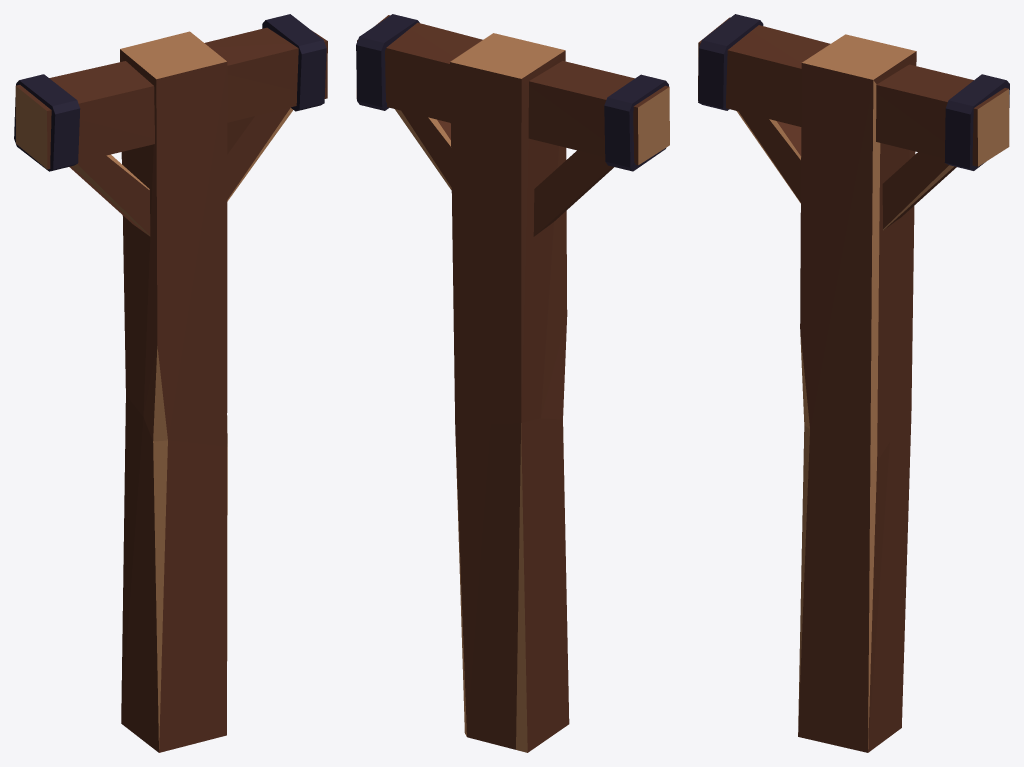
The model's file is MCastle_InteriorSupports_03.FBX.
3 renders of one model, left to right at view 1: azimuth 30°, elevation 25°; view 2: azimuth 150°, elevation 25°; view 3: azimuth 330°, elevation 25°, orthographic.
Visible parts, largest first — view 1: MCastle_InteriorSupports_03_LOD0; view 2: MCastle_InteriorSupports_03_LOD0; view 3: MCastle_InteriorSupports_03_LOD0.
Part boxes in pixels (x1,y1,x2,y2): MCastle_InteriorSupports_03_LOD0: [14, 14, 327, 752]; MCastle_InteriorSupports_03_LOD0: [356, 14, 669, 752]; MCastle_InteriorSupports_03_LOD0: [698, 14, 1009, 752].
Size of what is drawn, in the model's own units: 76.72 by 176 by 20.79.
